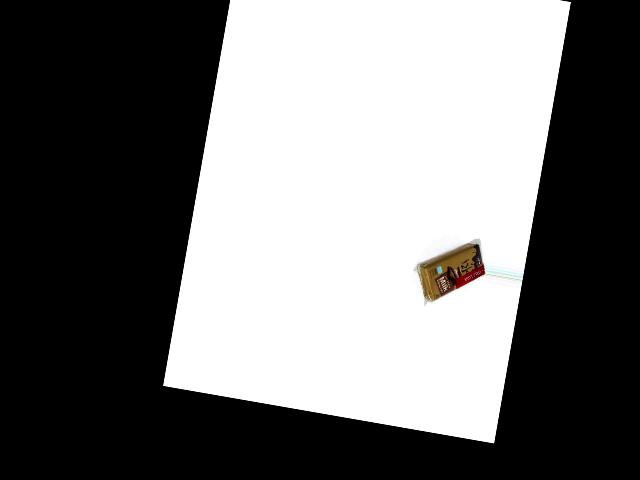chocolate: (410, 233, 488, 317)
